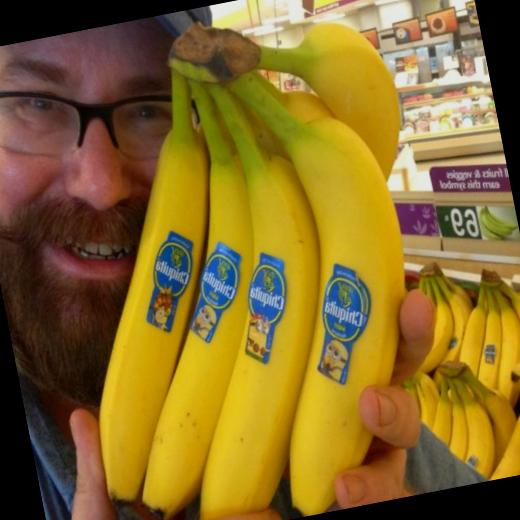Banana: (22, 0, 473, 520), (220, 45, 452, 516), (376, 242, 520, 493), (480, 203, 512, 241), (484, 204, 516, 236), (486, 204, 518, 234), (478, 206, 503, 242)
